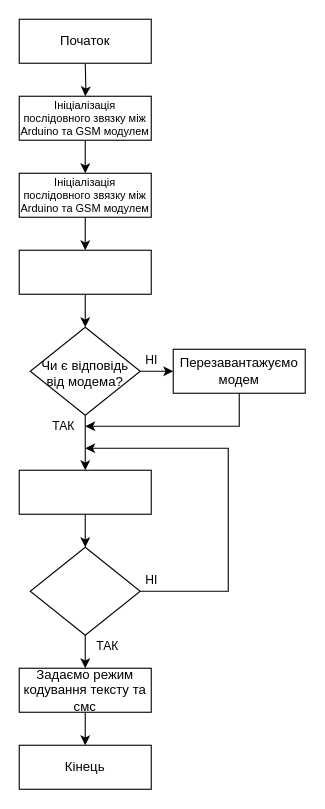
Some shapes in this 325 by 809 pixel diagram are drawn without their labels. Here are the shapes that lost their labels. From the top down, the centre of each, then its label:
At (84,271): "Перевірка відповіді модема".
At (84,491): "Перевірка підключення модему до мережі".
At (84,590): "Чи підключився модем до мережі?".
